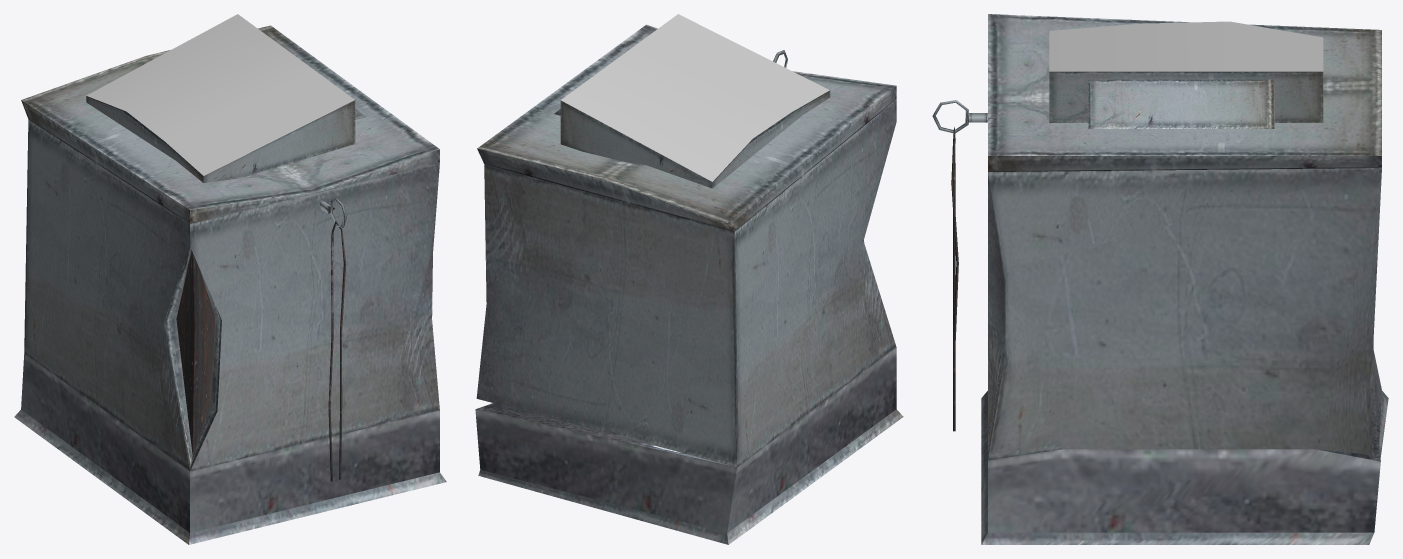
Rendered from Air_vent_house.fbx.
3 renders of one model, left to right at view 1: azimuth 30°, elevation 25°; view 2: azimuth 150°, elevation 25°; view 3: azimuth 270°, elevation 25°, orthographic. The views are drawn at different scales.
Visible parts, largest first — view 1: Air_vent_house; view 2: Air_vent_house; view 3: Air_vent_house.
Boxes of the visible parts, bbox=[...] form: Air_vent_house: bbox=[14, 14, 446, 544]; Air_vent_house: bbox=[475, 14, 903, 544]; Air_vent_house: bbox=[932, 14, 1388, 544].
Bounding box in the file's own units: 244 × 339 × 320.
